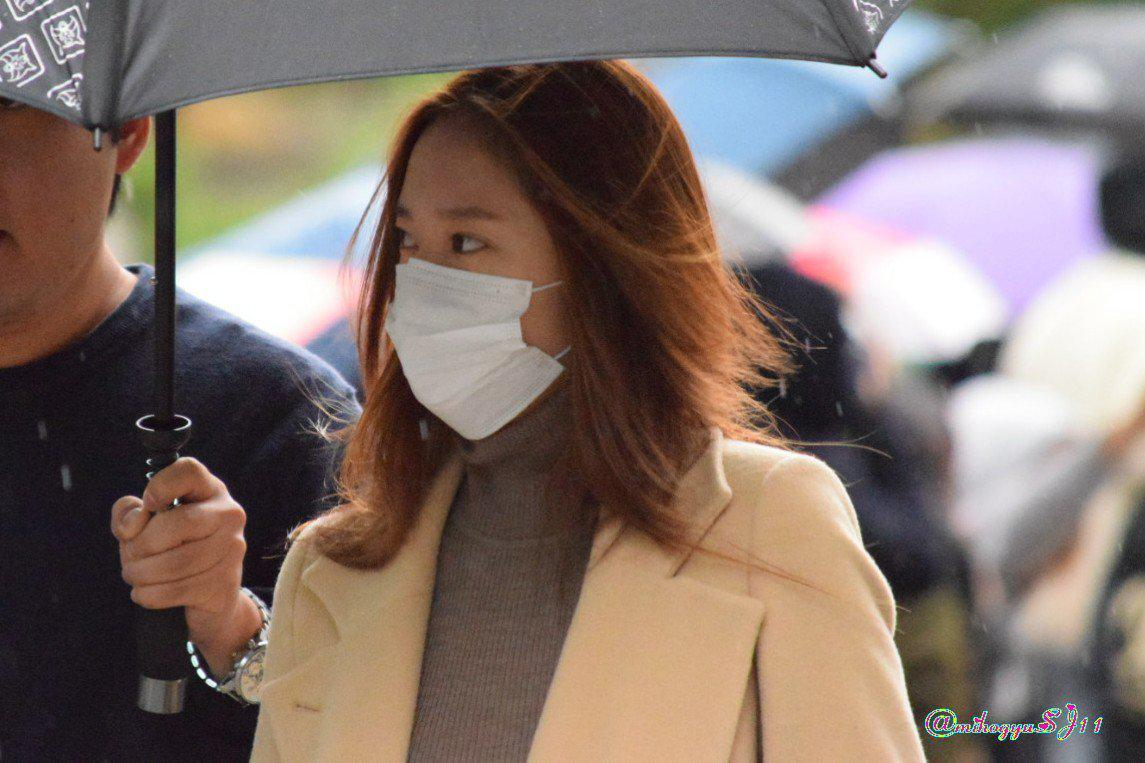OK: (383, 169, 554, 431)
